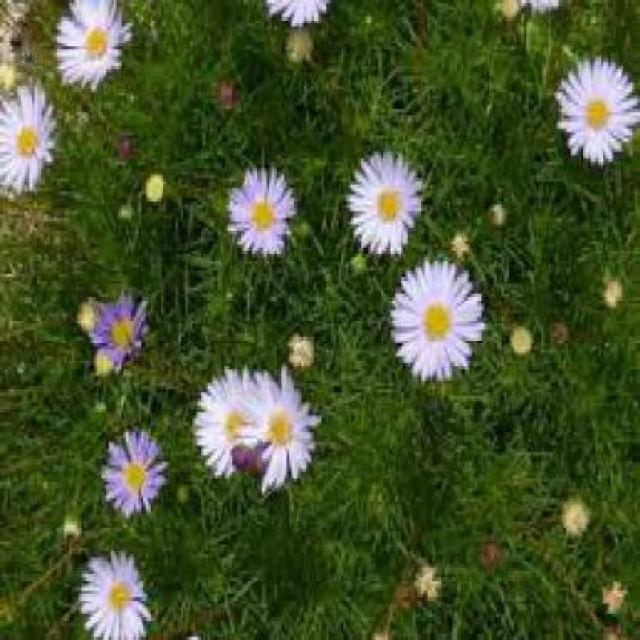Flower: (388, 254, 487, 383), (235, 363, 321, 495), (553, 56, 638, 172), (343, 148, 420, 261), (192, 363, 265, 482), (52, 3, 133, 92), (76, 548, 156, 637), (226, 161, 300, 257), (99, 425, 173, 518), (2, 79, 58, 198), (422, 303, 453, 340), (267, 410, 295, 448), (375, 188, 400, 224), (15, 122, 39, 159), (84, 22, 108, 56), (252, 198, 275, 232), (585, 99, 610, 130), (111, 577, 131, 608), (123, 462, 143, 493)
